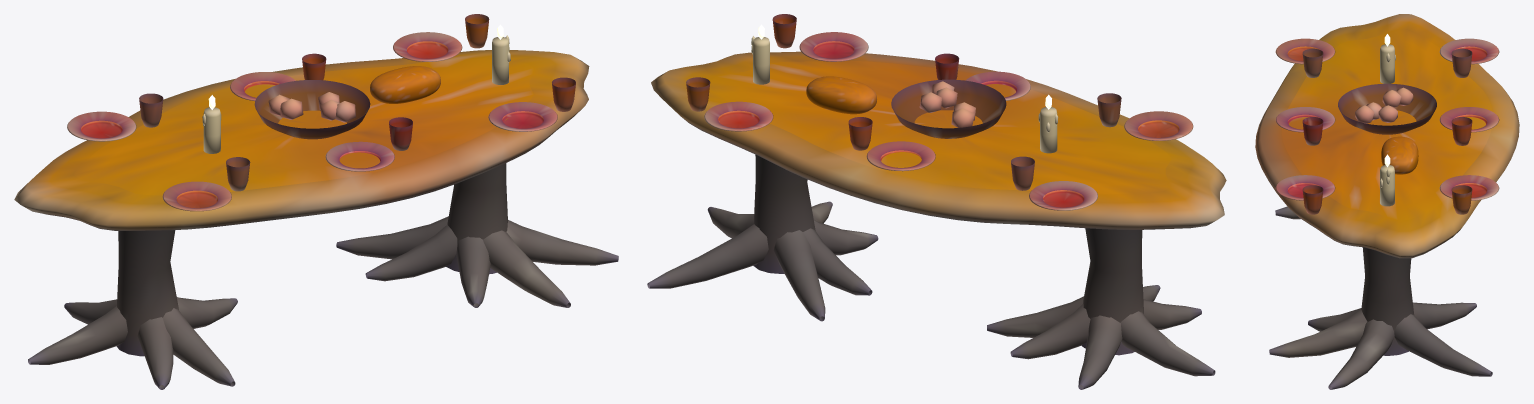
File: kok_yemek_masasi.glb
3 renders of one model, left to right at view 1: azimuth 30°, elevation 25°; view 2: azimuth 150°, elevation 25°; view 3: azimuth 270°, elevation 25°, orthographic. The views are drawn at different scales.
Visible parts, largest first — view 1: kok_yemek_masasi_LOD0; view 2: kok_yemek_masasi_LOD0; view 3: kok_yemek_masasi_LOD0.
Boxes of the visible parts, x1,y1,x2,y2 form: kok_yemek_masasi_LOD0: [14, 14, 618, 389]; kok_yemek_masasi_LOD0: [647, 14, 1226, 389]; kok_yemek_masasi_LOD0: [1255, 14, 1519, 389].
Size of what is drawn, in the model's own units: 2.27 by 0.9054 by 1.06.
